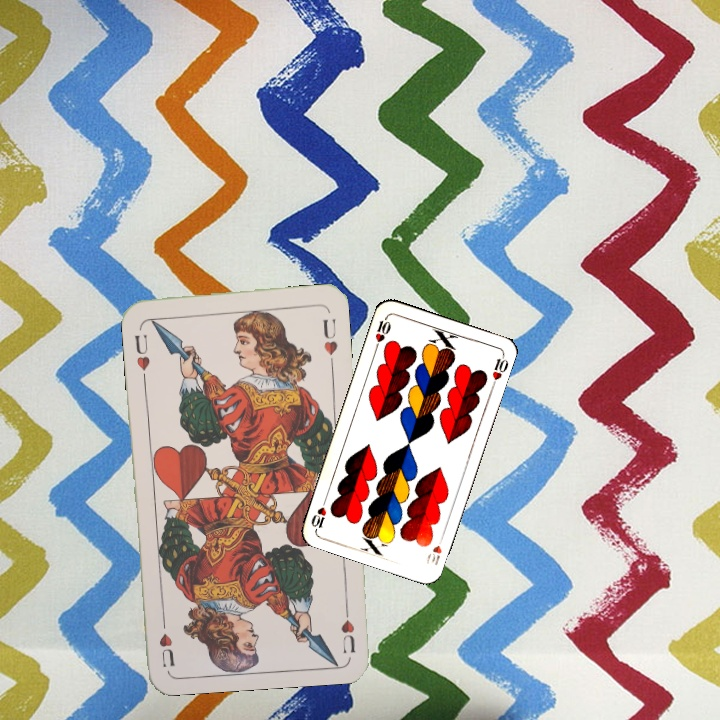H10: (422, 530, 446, 568), (371, 313, 393, 352)
HU: (337, 598, 358, 656), (131, 330, 153, 380)
